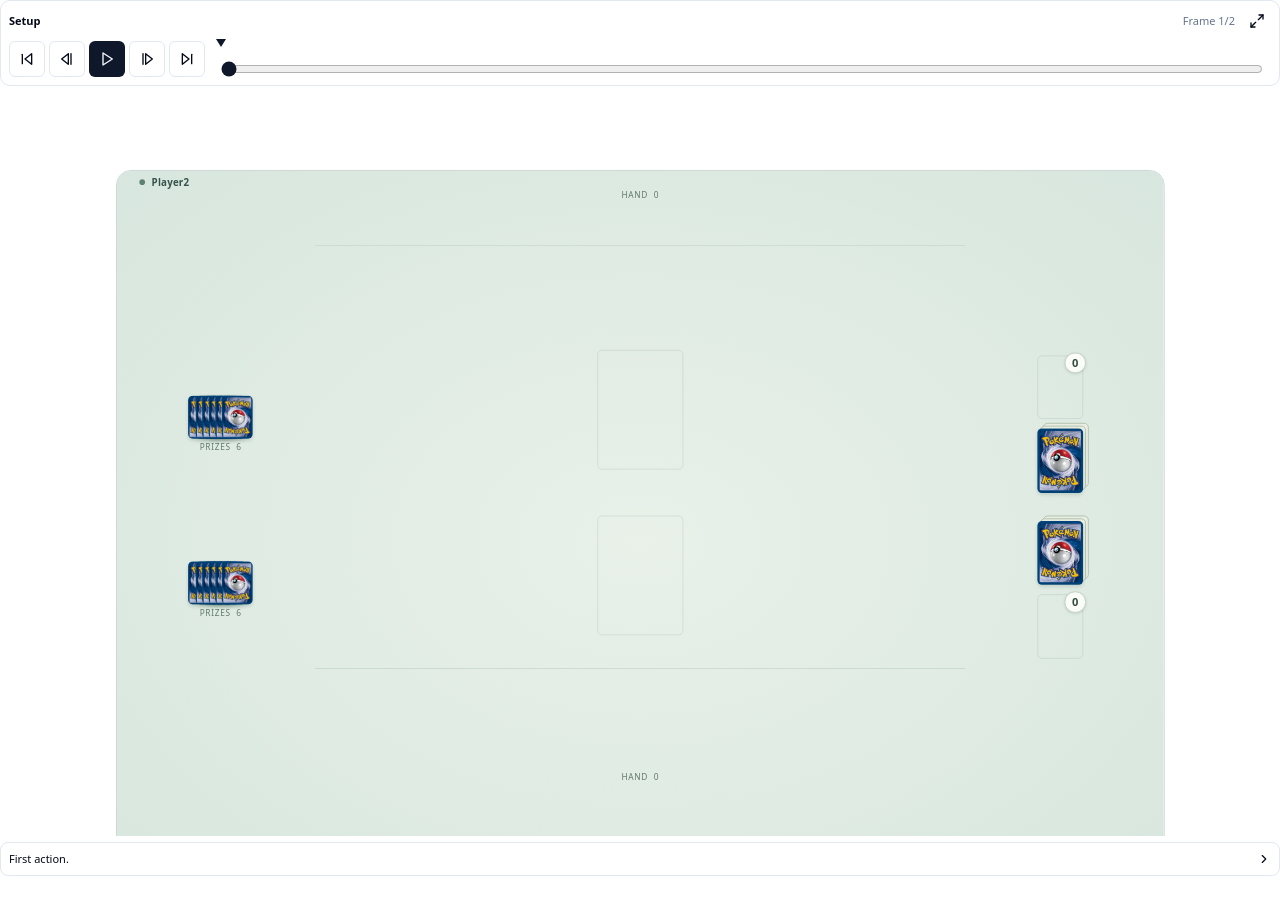
Scenario: keeps the current frame when entering and leaving full-screen replay
Click the button named "Next" at (147, 59), box [129, 41, 165, 77]
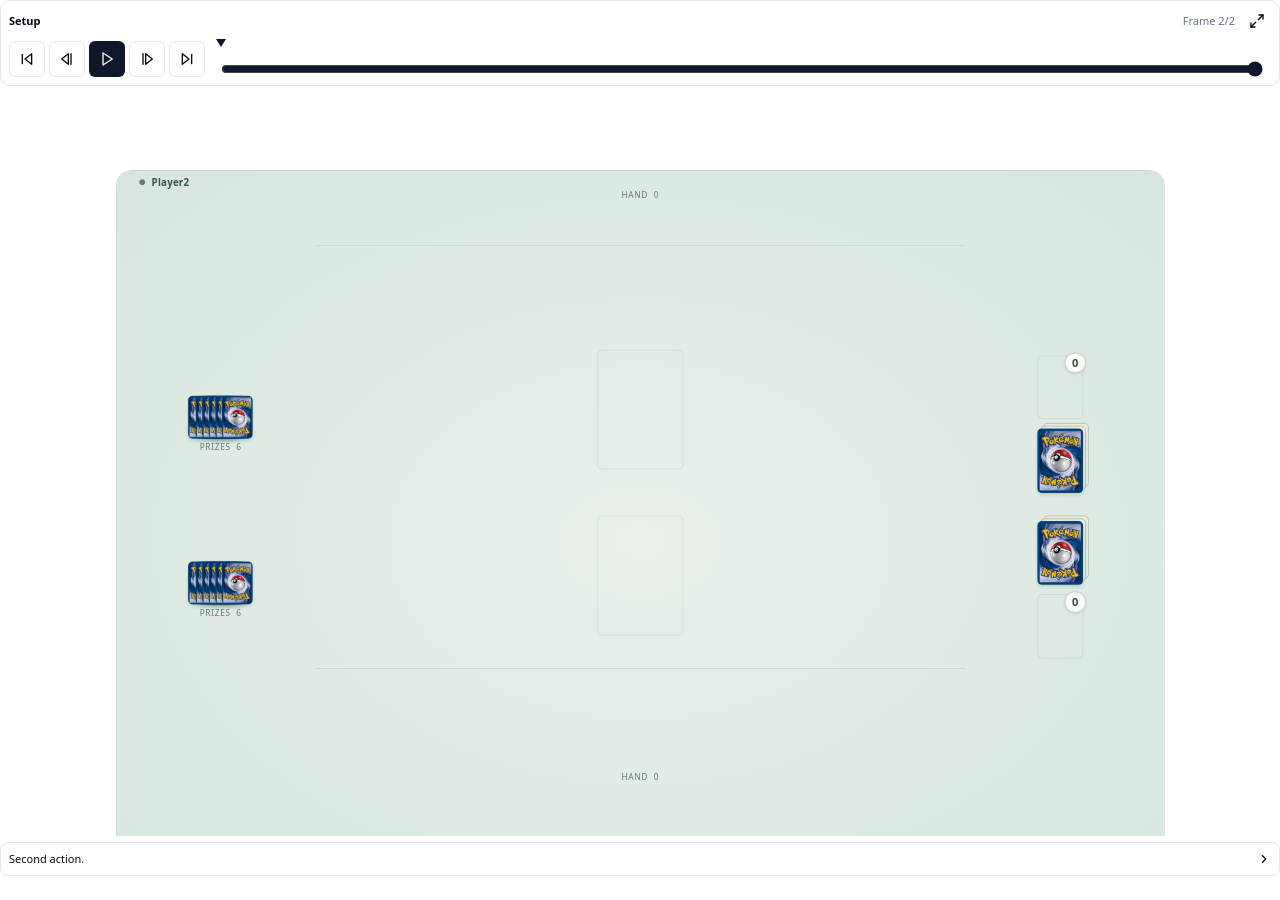
Click the button named "Full-screen replay" at (1257, 21), box [1243, 7, 1271, 35]
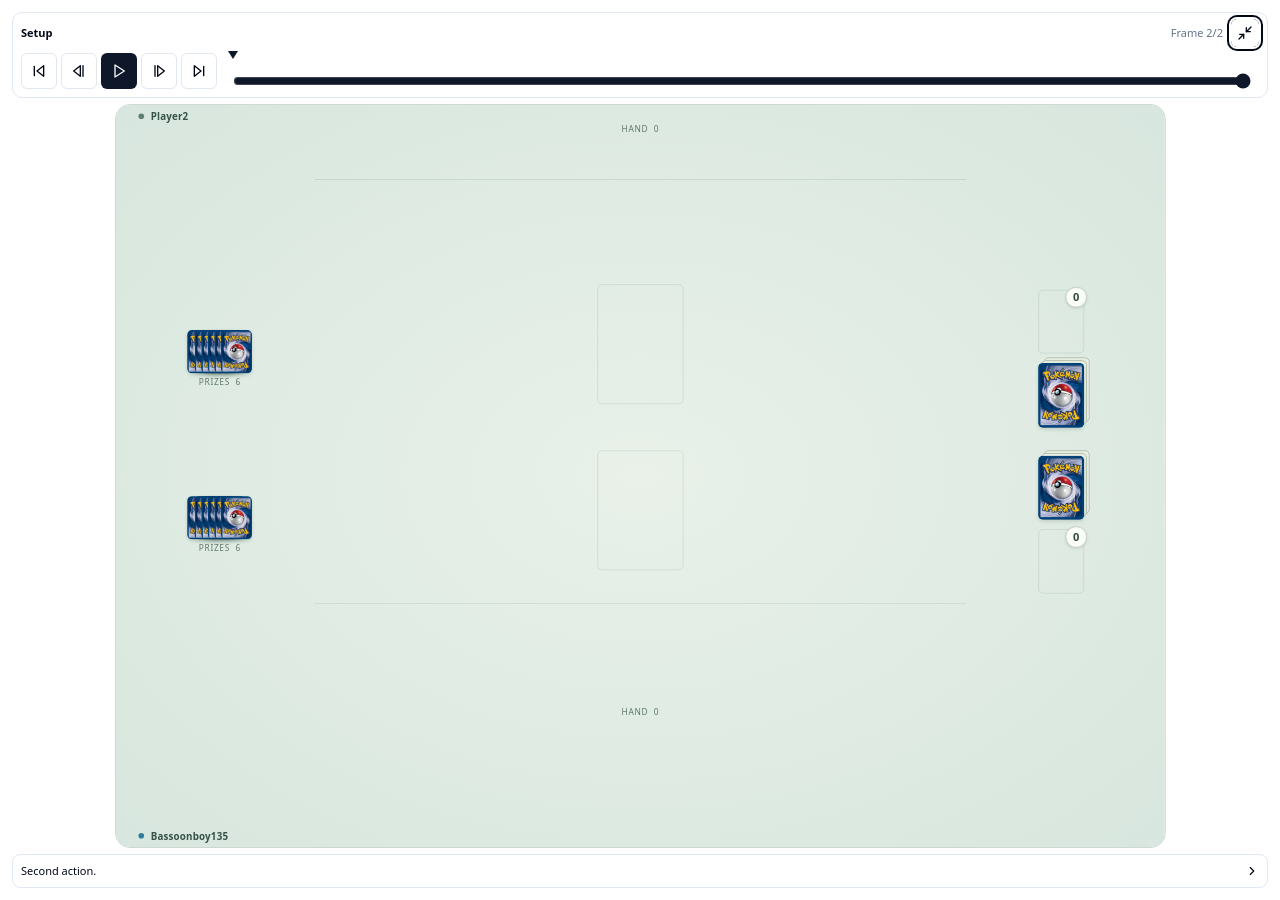
Check: the text "Second action." is shown, box [21, 863, 96, 878]
Press Escape
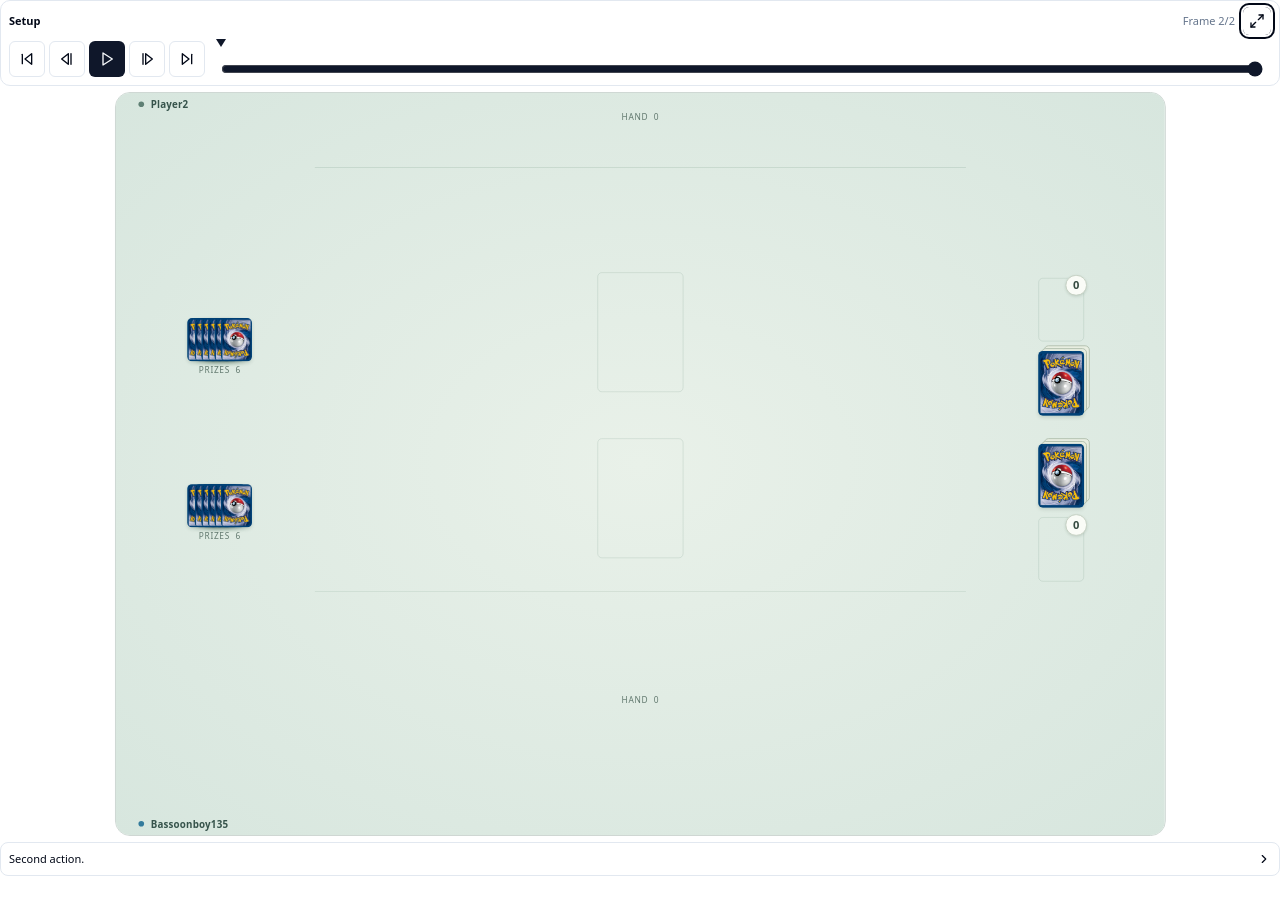
Check: the text "Second action." is shown, box [9, 851, 84, 866]
Check: the button named "Full-screen replay" is shown, box [1243, 7, 1271, 35]
